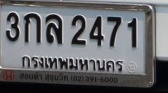num3: (4, 10, 21, 43)
txt01: (22, 11, 42, 45)
txt31: (44, 12, 64, 46)
